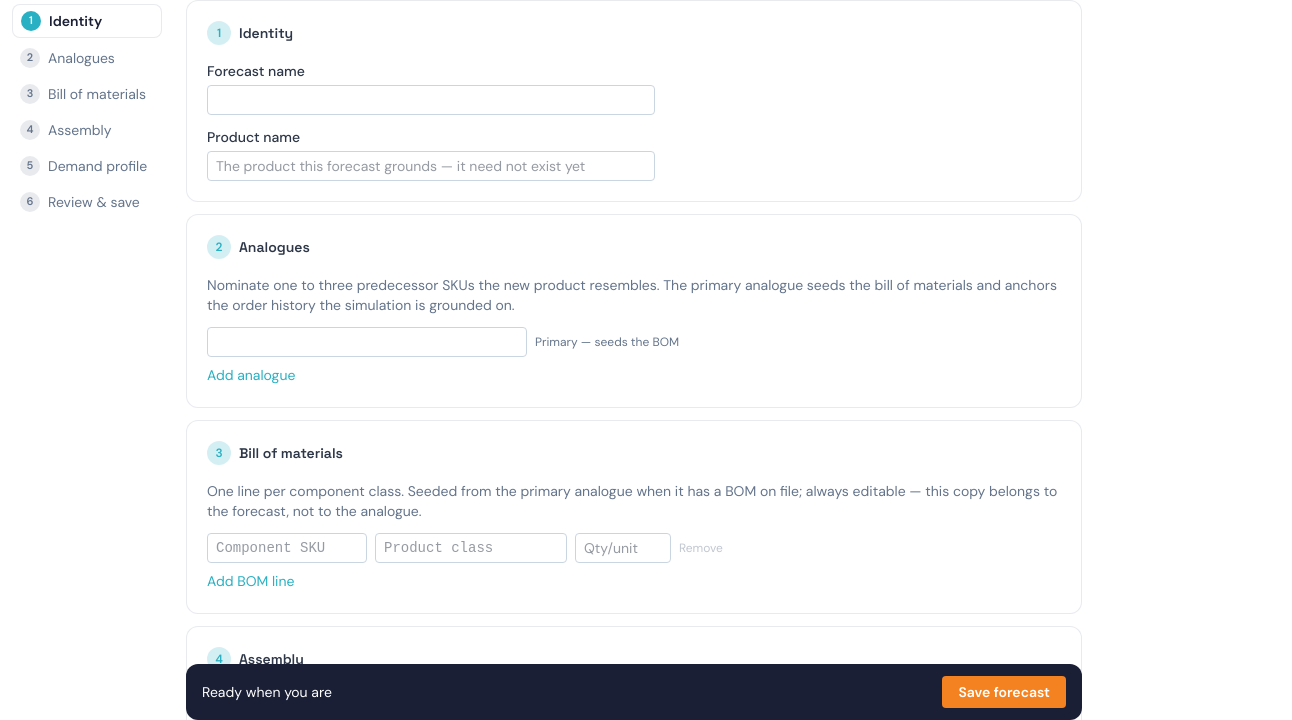
Test: <ForecastWizard> › marks the identity step as an error and does not POST when submitted with an empty name
This screenshot has width=1292, height=720.
Click the button "Save forecast". click: [1004, 692]
box: [942, 676, 1066, 708]
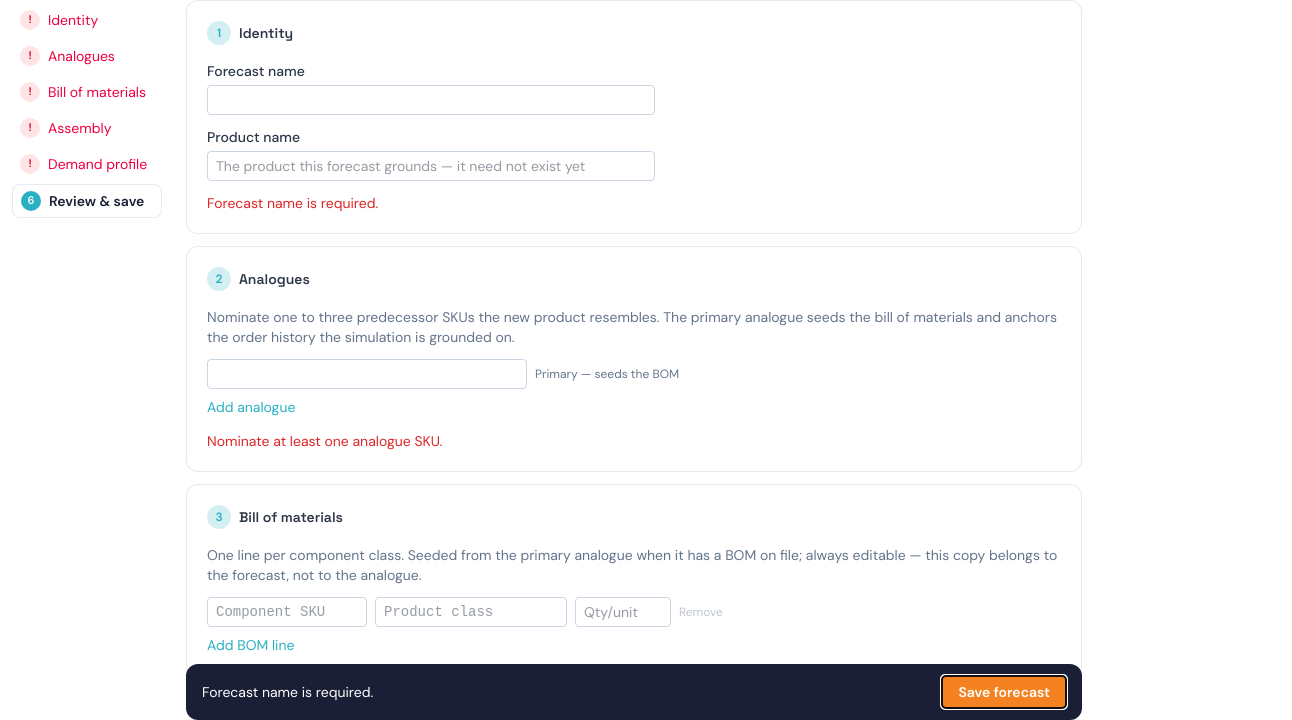
Expected: the button "! Identity" is shown, [12, 4, 162, 36]
